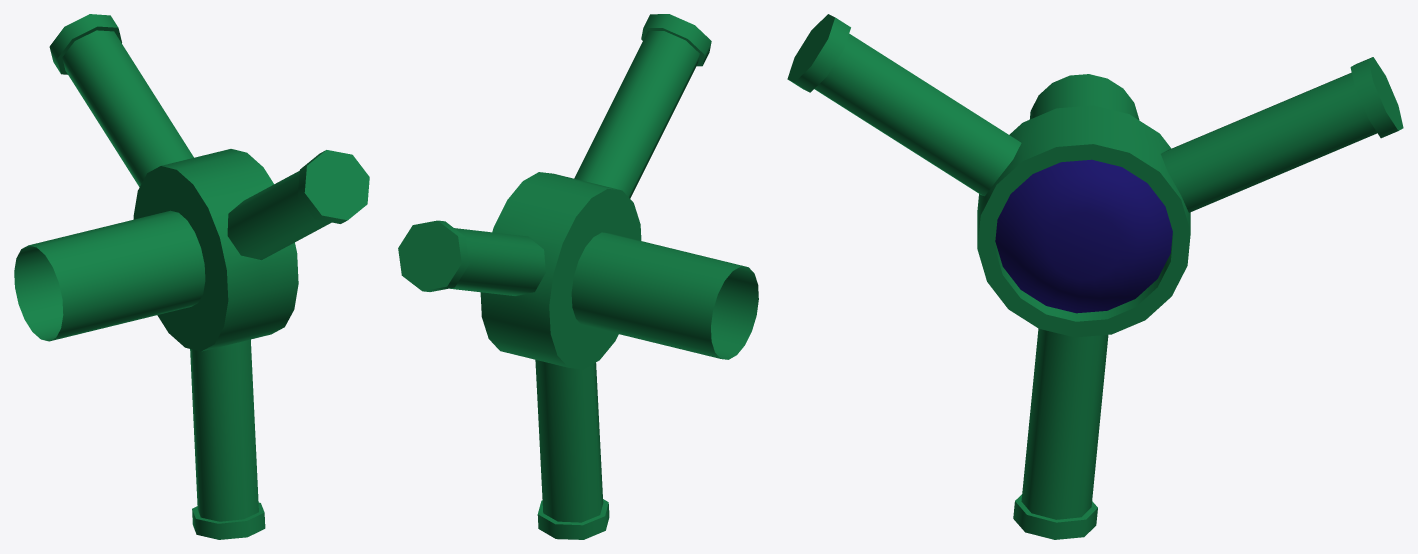
Rendered from GG_SAFE_HANDLE.FBX.
3 renders of one model, left to right at view 1: azimuth 30°, elevation 25°; view 2: azimuth 150°, elevation 25°; view 3: azimuth 270°, elevation 25°, orthographic. The views are drawn at different scales.
Visible parts, largest first — view 1: GG_SAFE_HANDLE001; view 2: GG_SAFE_HANDLE001; view 3: GG_SAFE_HANDLE001.
Part boxes in pixels (x1,y1,x2,y2): GG_SAFE_HANDLE001: [14, 14, 369, 539]; GG_SAFE_HANDLE001: [398, 14, 758, 539]; GG_SAFE_HANDLE001: [787, 14, 1403, 539].
Size of the model in its own units: 3.52 by 6.82 by 7.5.
